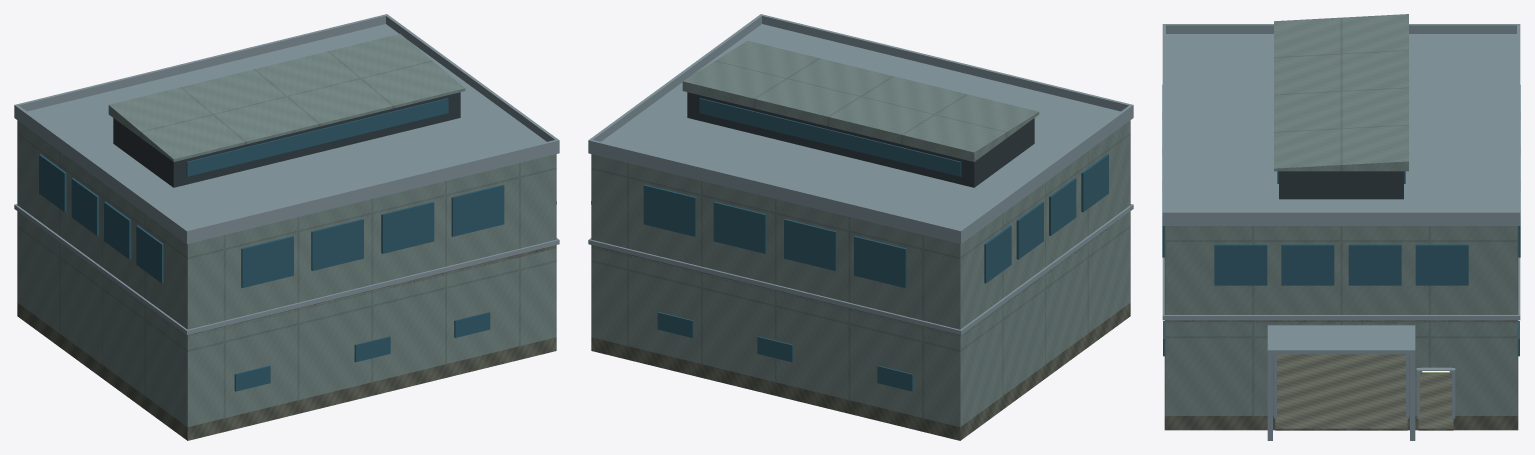
File: Frontier_FreightDepot.glb
3 renders of one model, left to right at view 1: azimuth 30°, elevation 25°; view 2: azimuth 150°, elevation 25°; view 3: azimuth 270°, elevation 25°, orthographic. The views are drawn at different scales.
Visible parts, largest first — view 1: Frontier_FreightDepot_GroundShell, Frontier_FreightDepot_Roof, Frontier_FreightDepot_Upper1_Shell_F1, Frontier_FreightDepot_RoofMonitor, Frontier_FreightDepot_Upper1_SideGlazing_F1, Frontier_FreightDepot_Foundation, Frontier_FreightDepot_Upper1_EndGlazing_F1, Frontier_FreightDepot_Upper1_SlabBand_F1, Frontier_FreightDepot_GroundWindows, Frontier_FreightDepot_TerraceDeck_1; view 2: Frontier_FreightDepot_GroundShell, Frontier_FreightDepot_Roof, Frontier_FreightDepot_Upper1_Shell_F1, Frontier_FreightDepot_RoofMonitor, Frontier_FreightDepot_Upper1_SideGlazing_F1, Frontier_FreightDepot_Foundation, Frontier_FreightDepot_Upper1_EndGlazing_F1, Frontier_FreightDepot_Upper1_SlabBand_F1, Frontier_FreightDepot_GroundWindows, Frontier_FreightDepot_TerraceDeck_1; view 3: Frontier_FreightDepot_Roof, Frontier_FreightDepot_RoofMonitor, Frontier_FreightDepot_Upper1_Shell_F1, Frontier_FreightDepot_GroundShell, Frontier_FreightDepot_Foundation, Frontier_FreightDepot_Upper1_EndGlazing_F1, Frontier_FreightDepot_PortalFixture, Frontier_FreightDepot_ThresholdRamp, Frontier_FreightDepot_Upper1_SlabBand_F1, Frontier_FreightDepot_PortalFrame, Frontier_FreightDepot_TerraceDeck_1, Frontier_FreightDepot_Upper1_SideGlazing_F1.
Boxes of the visible parts, box(x1,y1,x2,y2) form: Frontier_FreightDepot_GroundShell: box(17, 211, 556, 426); Frontier_FreightDepot_Roof: box(14, 14, 559, 243); Frontier_FreightDepot_Upper1_Shell_F1: box(17, 120, 556, 335); Frontier_FreightDepot_RoofMonitor: box(108, 34, 465, 187); Frontier_FreightDepot_Upper1_SideGlazing_F1: box(241, 184, 504, 287); Frontier_FreightDepot_Foundation: box(17, 303, 556, 440); Frontier_FreightDepot_Upper1_EndGlazing_F1: box(39, 154, 163, 283); Frontier_FreightDepot_Upper1_SlabBand_F1: box(14, 204, 559, 334); Frontier_FreightDepot_GroundWindows: box(234, 312, 490, 391); Frontier_FreightDepot_TerraceDeck_1: box(29, 220, 556, 337); Frontier_FreightDepot_GroundShell: box(591, 211, 1130, 426); Frontier_FreightDepot_Roof: box(588, 14, 1133, 243); Frontier_FreightDepot_Upper1_Shell_F1: box(591, 120, 1130, 335); Frontier_FreightDepot_RoofMonitor: box(682, 41, 1039, 187); Frontier_FreightDepot_Upper1_SideGlazing_F1: box(643, 184, 906, 287); Frontier_FreightDepot_Foundation: box(591, 303, 1130, 440); Frontier_FreightDepot_Upper1_EndGlazing_F1: box(984, 154, 1108, 283); Frontier_FreightDepot_Upper1_SlabBand_F1: box(588, 204, 1133, 334); Frontier_FreightDepot_GroundWindows: box(657, 312, 913, 391); Frontier_FreightDepot_TerraceDeck_1: box(591, 220, 1117, 337); Frontier_FreightDepot_Roof: box(1162, 24, 1520, 225); Frontier_FreightDepot_RoofMonitor: box(1274, 14, 1408, 199); Frontier_FreightDepot_Upper1_Shell_F1: box(1164, 226, 1518, 320); Frontier_FreightDepot_GroundShell: box(1164, 321, 1518, 415); Frontier_FreightDepot_Foundation: box(1164, 354, 1518, 430); Frontier_FreightDepot_Upper1_EndGlazing_F1: box(1214, 244, 1468, 285); Frontier_FreightDepot_PortalFixture: box(1267, 325, 1415, 440); Frontier_FreightDepot_ThresholdRamp: box(1275, 416, 1453, 430); Frontier_FreightDepot_Upper1_SlabBand_F1: box(1162, 257, 1520, 320); Frontier_FreightDepot_PortalFrame: box(1273, 354, 1455, 418); Frontier_FreightDepot_TerraceDeck_1: box(1164, 320, 1518, 323); Frontier_FreightDepot_Upper1_SideGlazing_F1: box(1162, 85, 1520, 257).
Size of the model in its own units: 22.8 by 12.45 by 16.21.
Materials: 7 (2 with a texture image).
